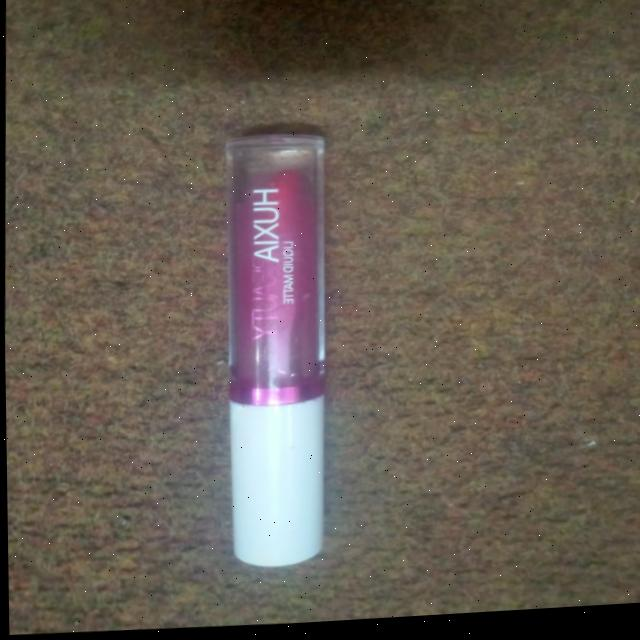lip gloss: (183, 110, 356, 595)
